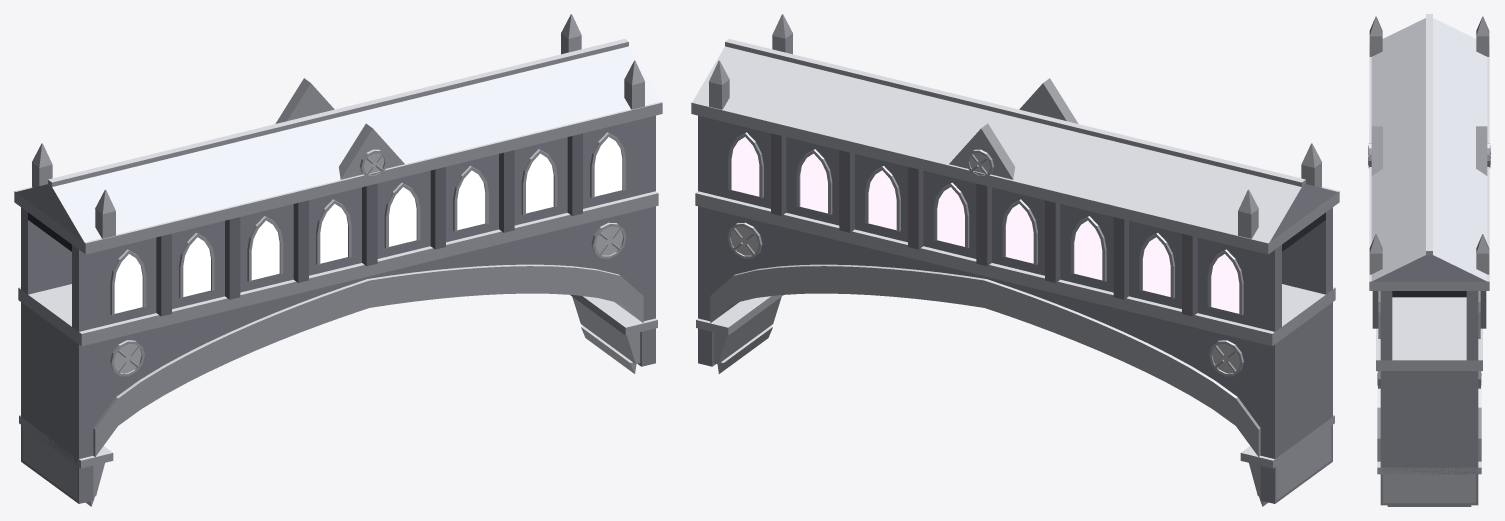
The model's file is PR_Passadico_23.fbx.
The picture shows the model from 3 angles, left to right: view 1: azimuth 30°, elevation 25°; view 2: azimuth 150°, elevation 25°; view 3: azimuth 270°, elevation 25°; orthographic projection. The views are drawn at different scales.
Visible parts, largest first — view 1: PR_Passadico_23; view 2: PR_Passadico_23; view 3: PR_Passadico_23.
Part boxes in pixels (x1,y1,x2,y2): PR_Passadico_23: (14,14,662,506); PR_Passadico_23: (691,14,1339,506); PR_Passadico_23: (1368,14,1490,506).
Bounding box in the file's own units: 24.2 × 12.85 × 5.3.
